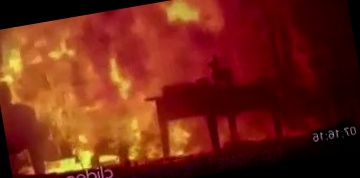fire: (0, 0, 325, 176)
